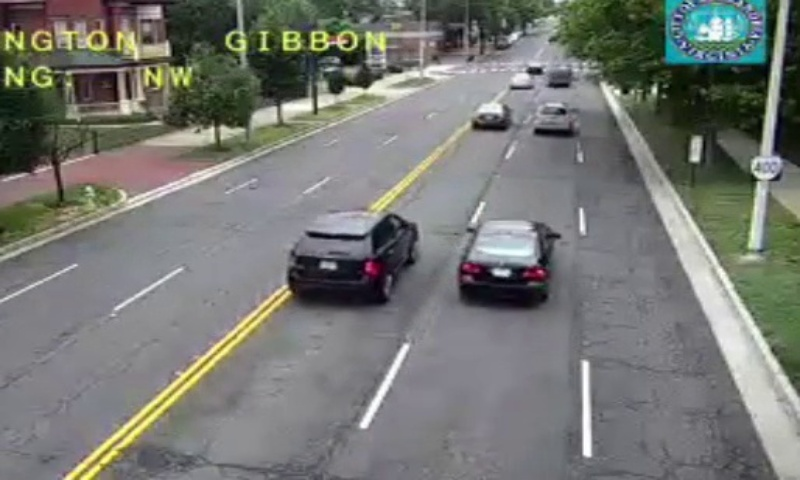car: (284, 209, 418, 298), (456, 218, 552, 296), (530, 102, 571, 131), (470, 102, 512, 128)
